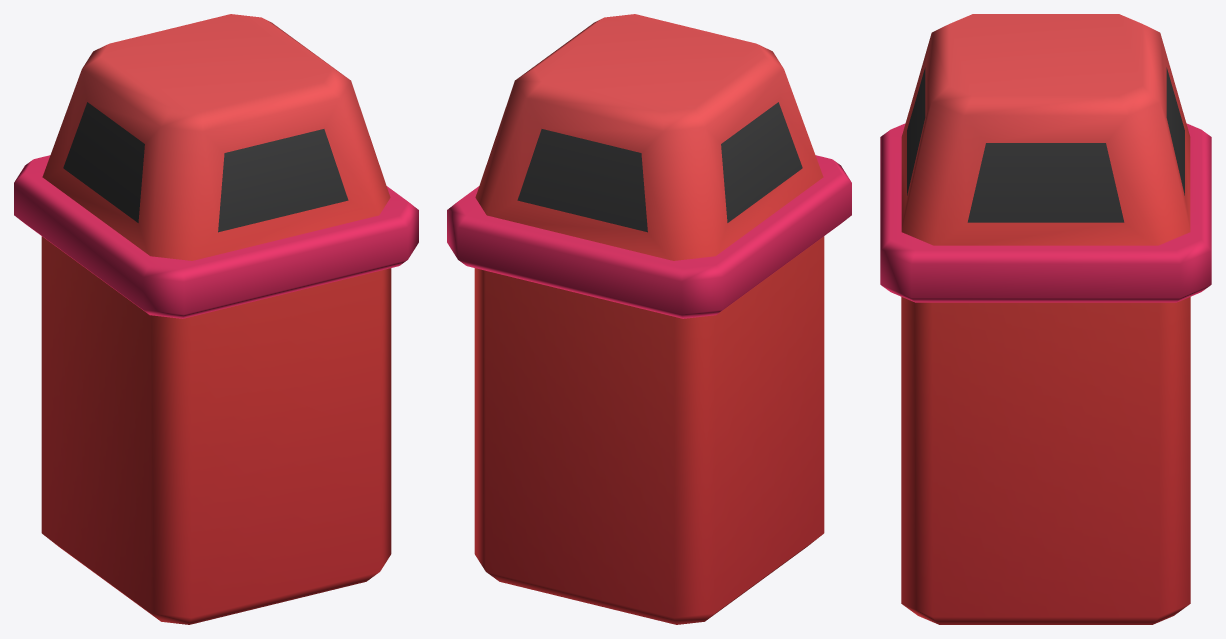
Rendered from Trash_03.glb.
The picture shows the model from 3 angles, left to right: view 1: azimuth 30°, elevation 25°; view 2: azimuth 150°, elevation 25°; view 3: azimuth 270°, elevation 25°; orthographic projection. The views are drawn at different scales.
Parts seen in each view (by area): view 1: Trash_03; view 2: Trash_03; view 3: Trash_03.
Part boxes in pixels (<box>): Trash_03: <box>14,14,418,624</box>; Trash_03: <box>447,14,851,624</box>; Trash_03: <box>880,14,1211,624</box>.
Bounding box in the file's own units: 0.5099 × 0.8757 × 0.5099.
Materials: 1 (1 with a texture image).
